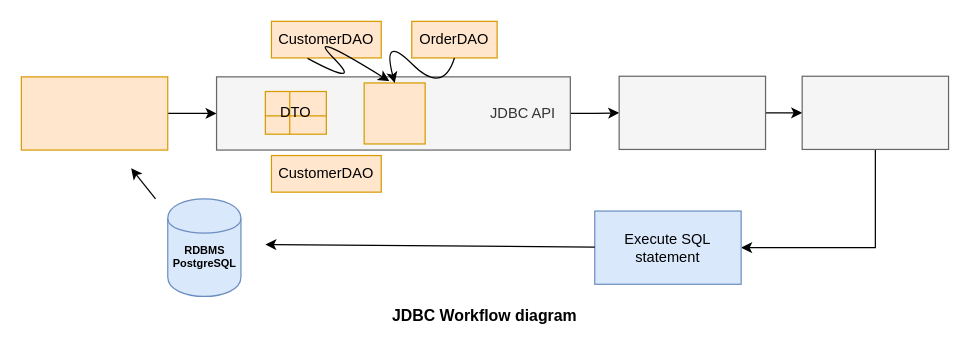
Some shapes in this 970 by 354 pixel diagram are drawn without their labels. Here are the shapes that lost their labels. From the top down, the box of each, then its label:
(20, 76, 168, 150): Java Application Runner
(363, 82, 425, 144): DAO
(618, 75, 766, 149): JDBC Driver Connection Manager. java
(801, 75, 949, 149): Create Connection
